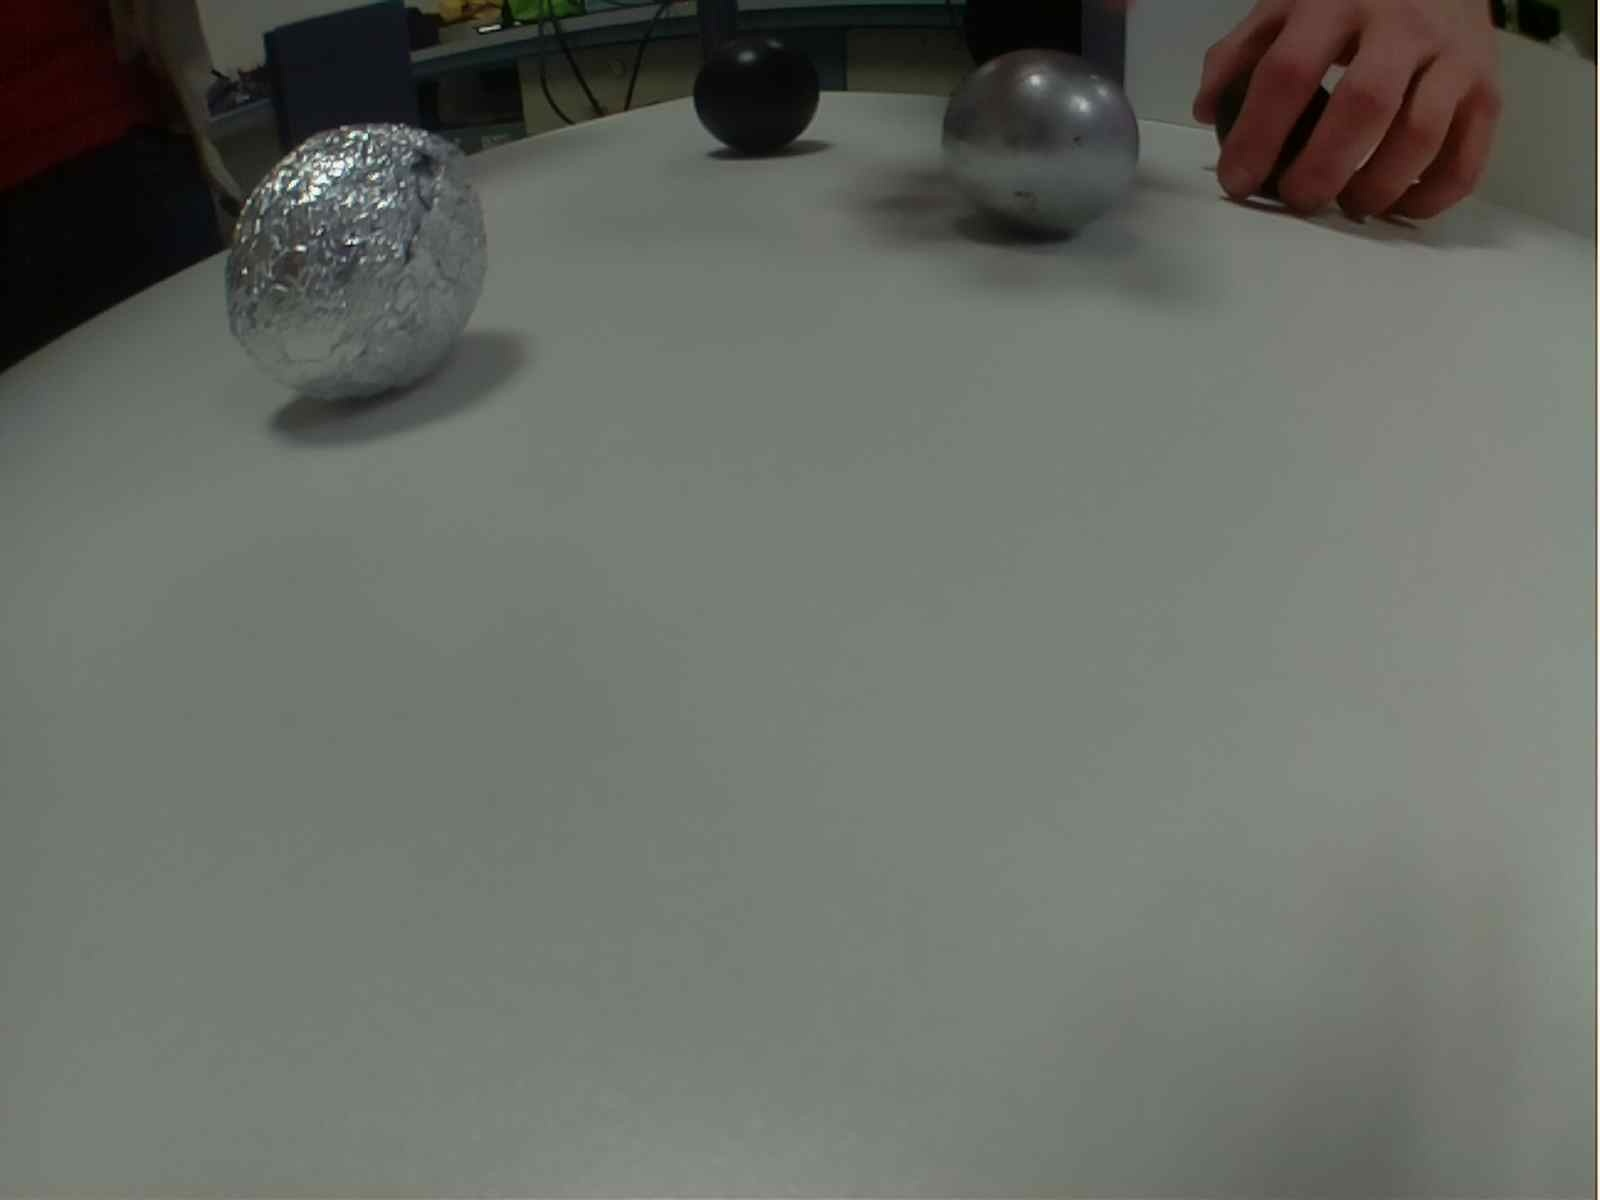bianca: (220, 126, 499, 405), (941, 54, 1133, 245)
nera: (694, 30, 818, 154)
